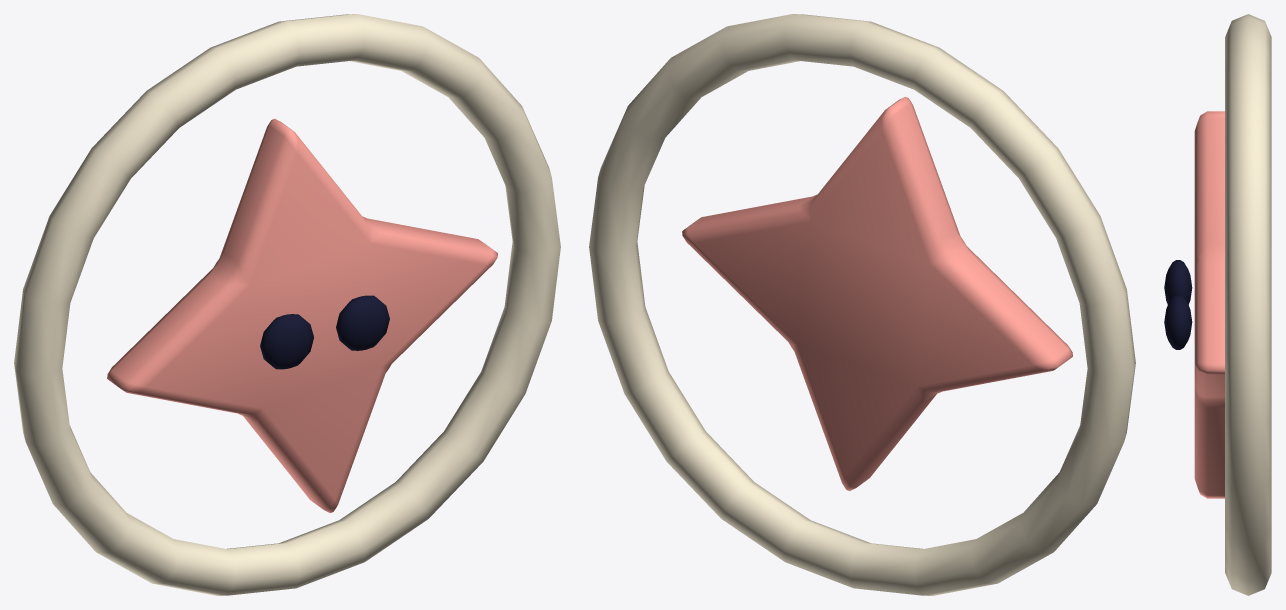
Rendered from r062_dungeon_puzzle_symbols_symbol_02.glb.
3 renders of one model, left to right at view 1: azimuth 30°, elevation 25°; view 2: azimuth 150°, elevation 25°; view 3: azimuth 270°, elevation 25°, orthographic. The views are drawn at different scales.
Parts seen in each view (by area): view 1: r062_dungeon_puzzle_symbols_symbol_02.001; view 2: r062_dungeon_puzzle_symbols_symbol_02.001; view 3: r062_dungeon_puzzle_symbols_symbol_02.001.
Boxes of the visible parts, bbox=[...] form: r062_dungeon_puzzle_symbols_symbol_02.001: bbox=[14, 14, 560, 595]; r062_dungeon_puzzle_symbols_symbol_02.001: bbox=[589, 14, 1135, 595]; r062_dungeon_puzzle_symbols_symbol_02.001: bbox=[1164, 14, 1271, 595].
Bounding box in the file's own units: 2.5 × 2.5 × 0.46.
